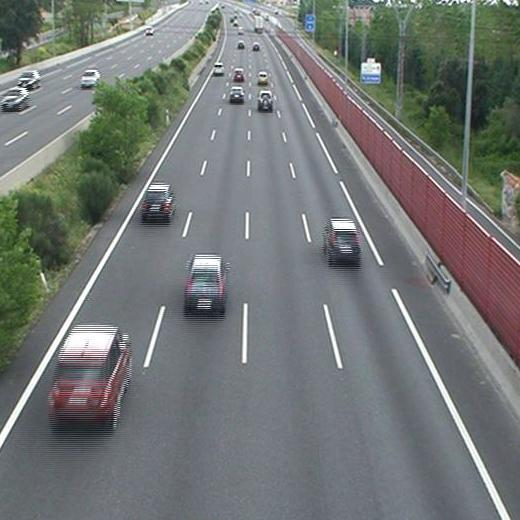car: (51, 326, 131, 416), (186, 256, 225, 308), (326, 219, 361, 262), (142, 185, 174, 217), (259, 91, 272, 108), (229, 87, 243, 100), (213, 63, 224, 74), (257, 71, 267, 83), (233, 69, 243, 79), (252, 43, 260, 52), (237, 41, 245, 50)
